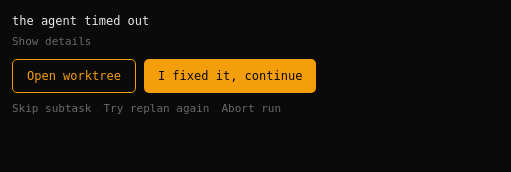
it: EscalationActions — skip › preview shows cascade count in confirm label
Click the button with test id "escalation-skip-trigger" at (52, 109), box [12,100,92,117]
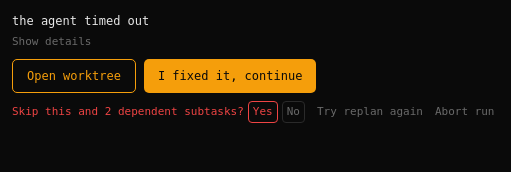
Expected: the text "Skip this and 2 dependent subtasks?" is shown, [12,104,244,120]
